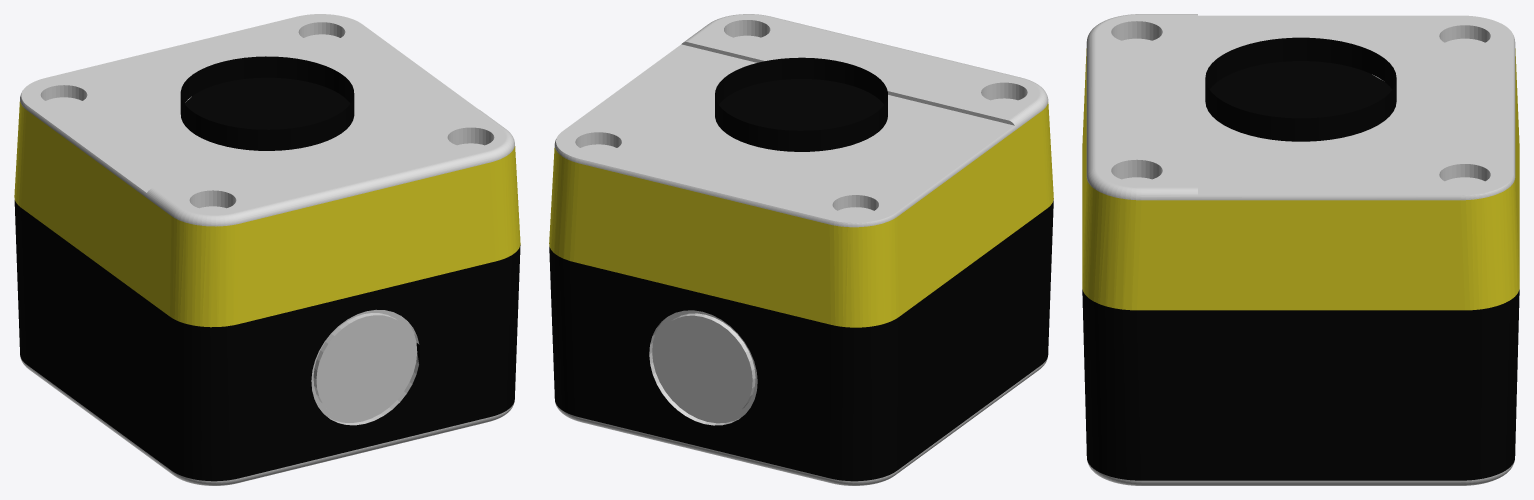
The model's file is UR3button.dae.
3 renders of one model, left to right at view 1: azimuth 30°, elevation 25°; view 2: azimuth 150°, elevation 25°; view 3: azimuth 270°, elevation 25°, orthographic. The views are drawn at different scales.
Visible parts, largest first — view 1: node; view 2: node; view 3: node.
Boxes of the visible parts, x1,y1,x2,y2 form: node: [14, 14, 520, 485]; node: [549, 14, 1053, 485]; node: [1082, 14, 1519, 485].
Size of the model in its own units: 0.068 by 0.068 by 0.055.
